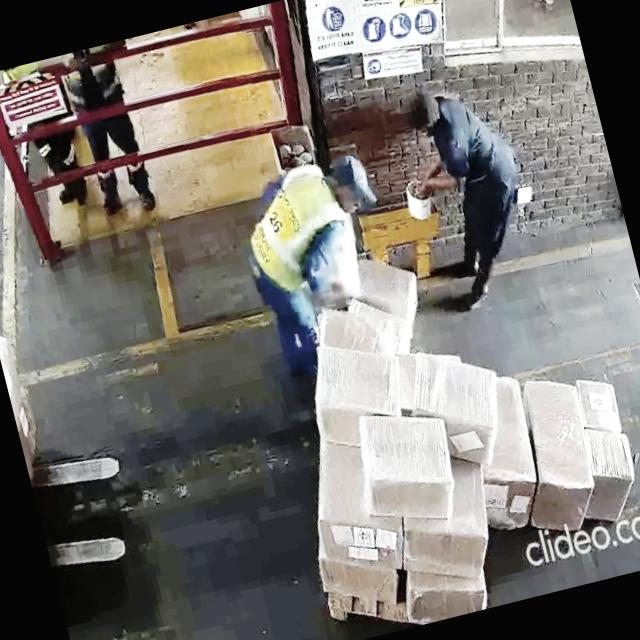Box: (350, 396, 470, 532), (514, 376, 599, 527), (298, 326, 407, 436), (406, 338, 504, 444), (398, 506, 492, 590), (312, 493, 405, 577), (578, 421, 640, 526), (314, 540, 401, 614), (404, 566, 486, 626), (570, 363, 628, 438)
